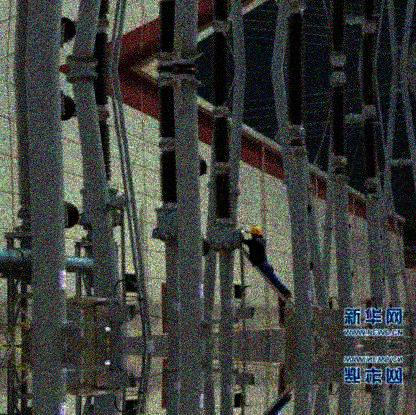helmet: (250, 225, 263, 238)
